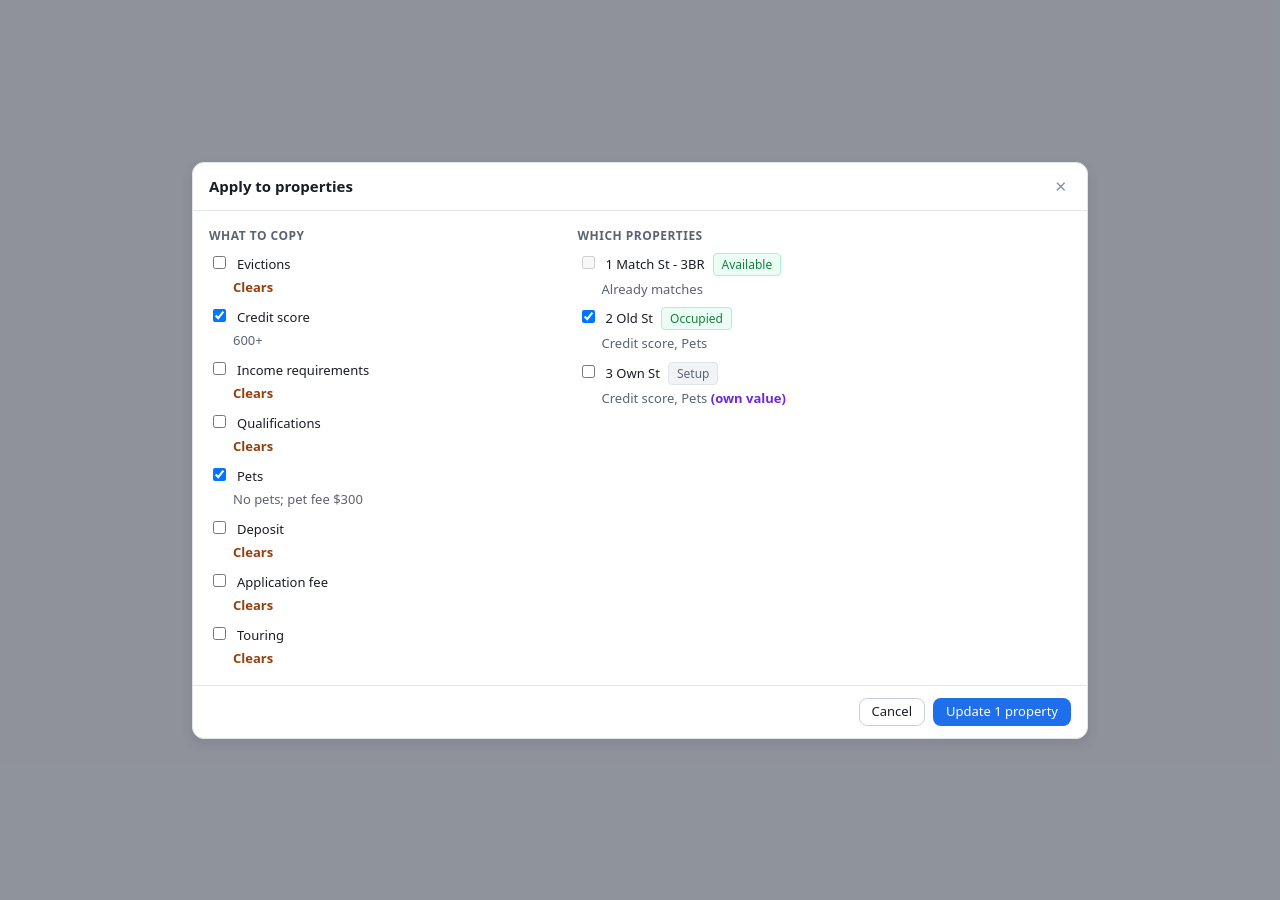
ApplyRequirementsDialog - the two columns › unchecking an item recomputes every row: a row whose only own value was in it starts checked
Click the checkbox labelled "Pets": (220,474) [213,468,226,480]
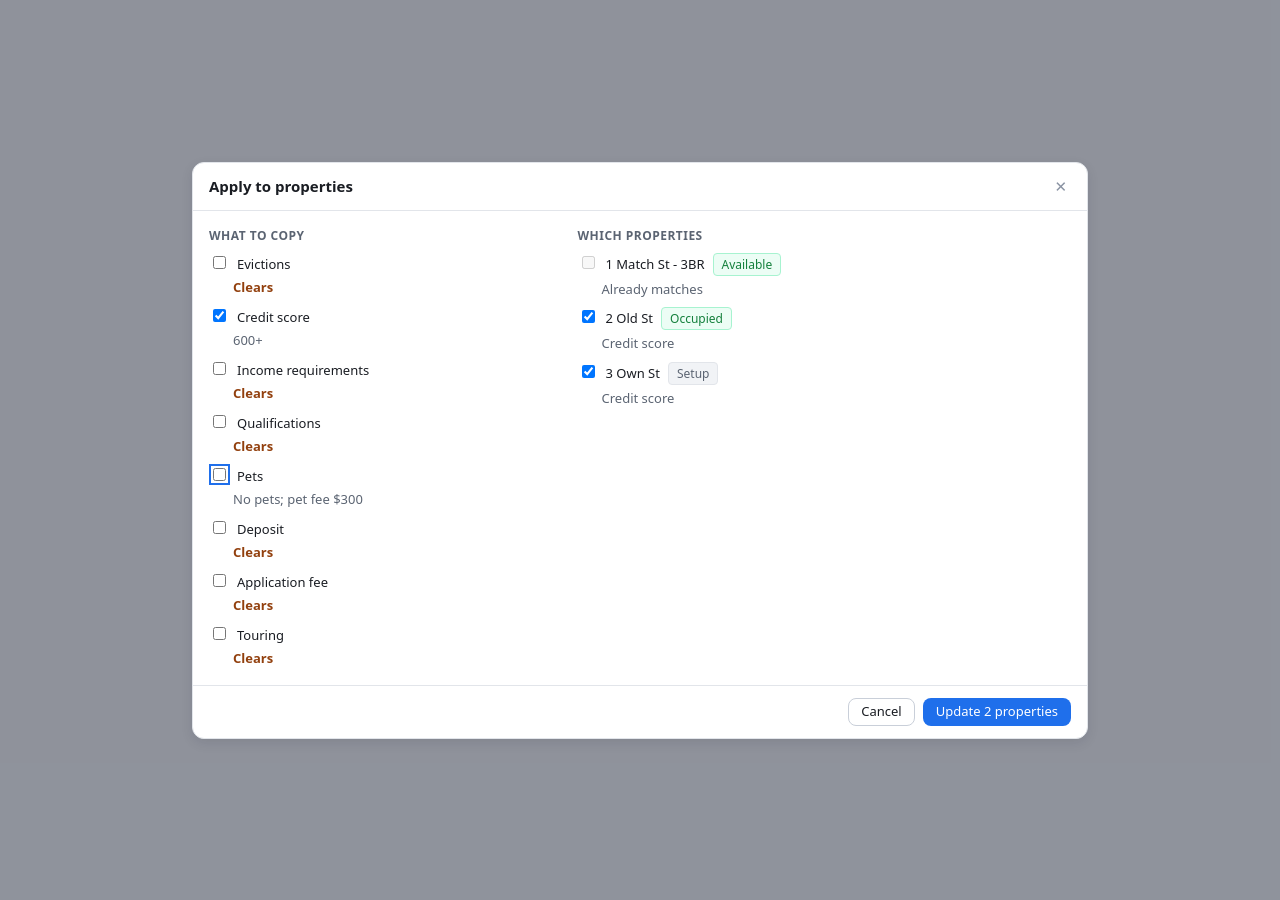
Expected: the list item "3 Own St" shows "Credit score", [602,389,674,407]
Expected: the checkbox labelled "3 Own St" is checked, [582,365,594,378]
Expected: the list item "3 Own St" no longer shows "own value", [582,362,718,407]
